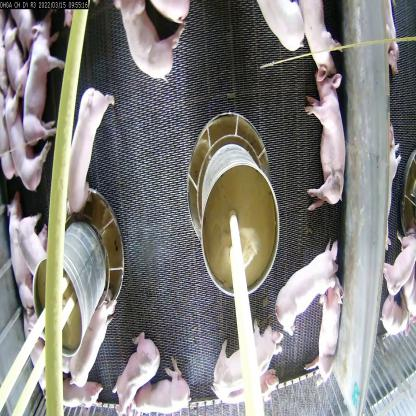Pig: (304, 53, 350, 212), (116, 0, 192, 93), (62, 82, 114, 214), (275, 241, 337, 350), (4, 85, 54, 190), (25, 13, 62, 144), (72, 278, 116, 379), (213, 324, 280, 385), (312, 288, 348, 390), (116, 327, 158, 404), (136, 370, 190, 415), (53, 370, 105, 415), (23, 298, 47, 386), (15, 215, 48, 272)
